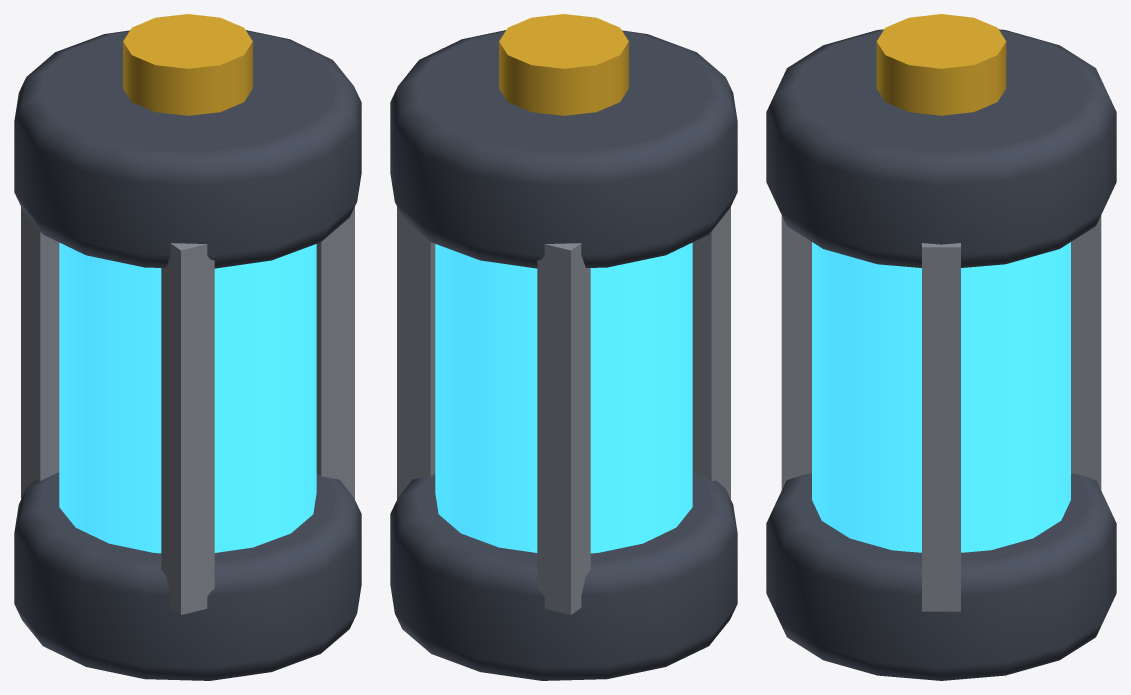
File: cell.glb
3 views of the same model, side by side, from view 1: azimuth 30°, elevation 25°; view 2: azimuth 150°, elevation 25°; view 3: azimuth 270°, elevation 25° (orthographic).
Visible parts, largest first — view 1: cell_cap1, cell_core, cell_cap0, cell_strut2, cell_handle, cell_strut0, cell_strut1; view 2: cell_cap1, cell_core, cell_cap0, cell_strut1, cell_handle, cell_strut0, cell_strut2; view 3: cell_core, cell_cap1, cell_cap0, cell_strut0, cell_handle, cell_strut1, cell_strut2.
Part boxes in pixels (bbox=[...]): cell_cap1: bbox=[14, 30, 361, 268]; cell_core: bbox=[59, 242, 316, 553]; cell_cap0: bbox=[14, 472, 361, 680]; cell_strut2: bbox=[161, 243, 214, 614]; cell_handle: bbox=[123, 14, 252, 115]; cell_strut0: bbox=[316, 207, 354, 499]; cell_strut1: bbox=[21, 207, 59, 498]; cell_cap1: bbox=[390, 30, 737, 268]; cell_core: bbox=[435, 242, 692, 553]; cell_cap0: bbox=[390, 472, 737, 680]; cell_strut1: bbox=[537, 243, 590, 614]; cell_handle: bbox=[499, 14, 628, 115]; cell_strut0: bbox=[397, 207, 435, 499]; cell_strut2: bbox=[692, 207, 730, 498]; cell_core: bbox=[812, 242, 1070, 552]; cell_cap1: bbox=[766, 29, 1116, 267]; cell_cap0: bbox=[766, 473, 1116, 680]; cell_strut0: bbox=[922, 243, 960, 611]; cell_handle: bbox=[876, 14, 1006, 115]; cell_strut1: bbox=[1071, 215, 1101, 489]; cell_strut2: bbox=[781, 215, 811, 489].
Bounding box in the file's own units: 0.55 × 0.98 × 0.54.
